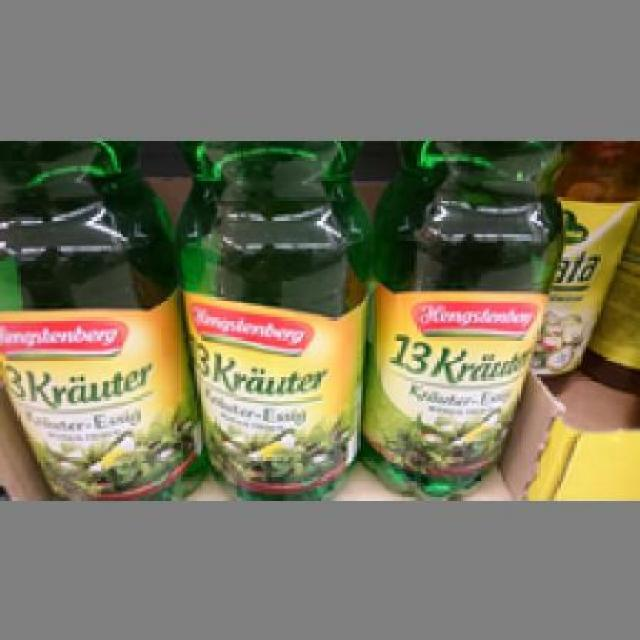Vinegar: (0, 140, 200, 494), (174, 140, 374, 494), (366, 134, 560, 494)
